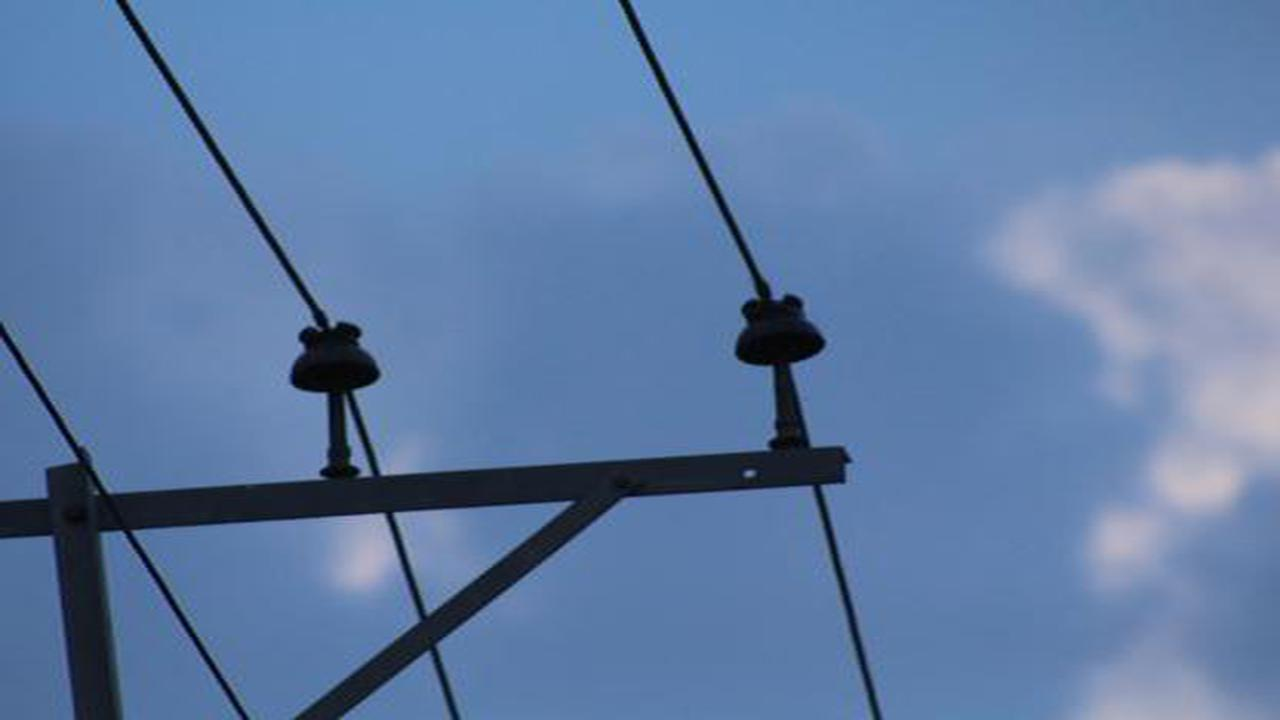insulator_pin: (724, 290, 833, 381), (288, 318, 387, 400)
